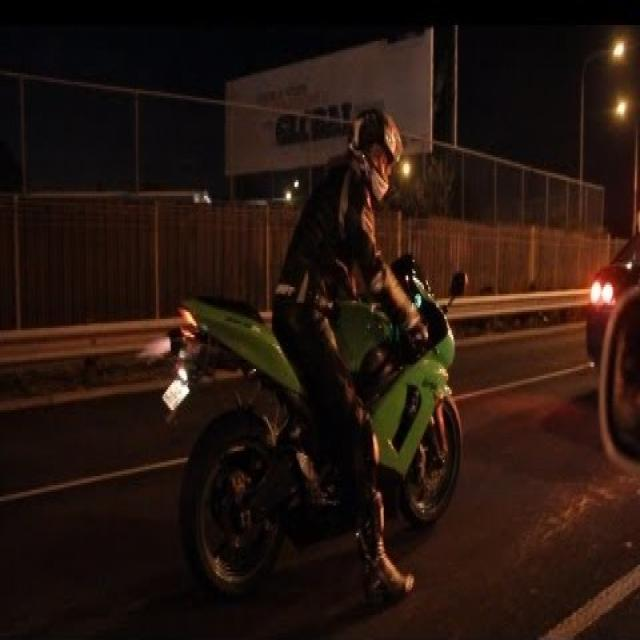Motorbike: (160, 243, 484, 618)
People: (297, 74, 430, 629)
